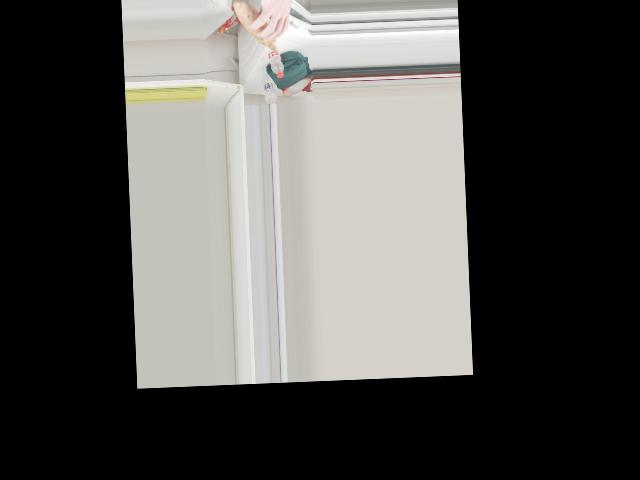sweet_potato: (235, 5, 287, 49)
